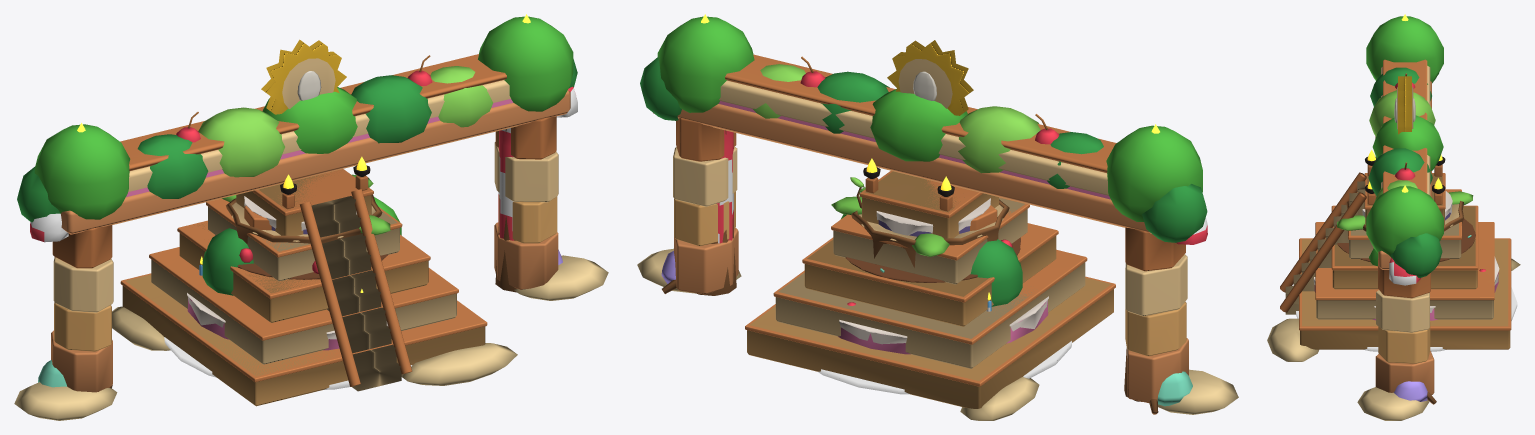
File: props_biomes_a.glb
3 views of the same model, side by side, from view 1: azimuth 30°, elevation 25°; view 2: azimuth 150°, elevation 25°; view 3: azimuth 270°, elevation 25° (orthographic). The views are drawn at different scales.
Parts seen in each view (by area): view 1: B_desert_landmark, B_desert_arch, B_forest_arch, B_candy_arch, B_candy_landmark, B_forest_rim_a, B_forest_landmark; view 2: B_desert_landmark, B_desert_arch, B_forest_arch, B_candy_landmark, B_candy_arch, B_forest_landmark, B_forest_rim_a; view 3: B_desert_landmark, B_forest_arch, B_desert_arch, B_candy_landmark, B_candy_arch, B_forest_landmark.
Part boxes in pixels (left/top/right/bottom): B_desert_landmark: left=112, top=156, right=517, bottom=406; B_desert_arch: left=14, top=14, right=608, bottom=420; B_forest_arch: left=17, top=16, right=577, bottom=388; B_candy_arch: left=30, top=55, right=577, bottom=387; B_candy_landmark: left=164, top=196, right=412, bottom=389; B_forest_rim_a: left=202, top=184, right=401, bottom=295; B_forest_landmark: left=222, top=174, right=390, bottom=243; B_desert_landmark: left=745, top=158, right=1115, bottom=420; B_desert_arch: left=637, top=14, right=1238, bottom=414; B_forest_arch: left=640, top=16, right=1207, bottom=414; B_candy_landmark: left=818, top=198, right=1071, bottom=394; B_candy_arch: left=653, top=56, right=1207, bottom=406; B_forest_landmark: left=831, top=177, right=1009, bottom=273; B_forest_rim_a: left=841, top=186, right=1022, bottom=306; B_desert_landmark: left=1267, top=150, right=1520, bottom=361; B_forest_arch: left=1366, top=16, right=1443, bottom=404; B_desert_arch: left=1357, top=14, right=1434, bottom=420; B_candy_landmark: left=1296, top=191, right=1517, bottom=351; B_candy_arch: left=1389, top=73, right=1427, bottom=401; B_forest_landmark: left=1337, top=191, right=1473, bottom=231.
Bounding box in the file's own units: 45.12 × 22.5 × 21.7.
